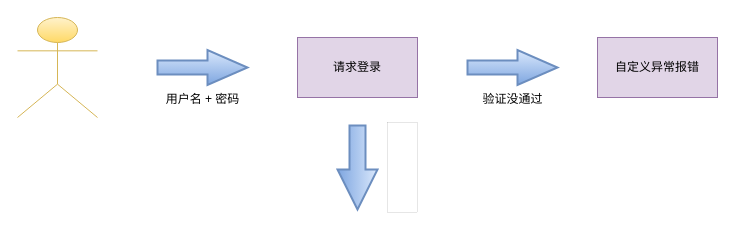
This 735x230 diagram has some shape labels left out. Each missing label, with the centre of its shape:
user: the point at 57,67
验 证 不 通 过: the point at 402,167
